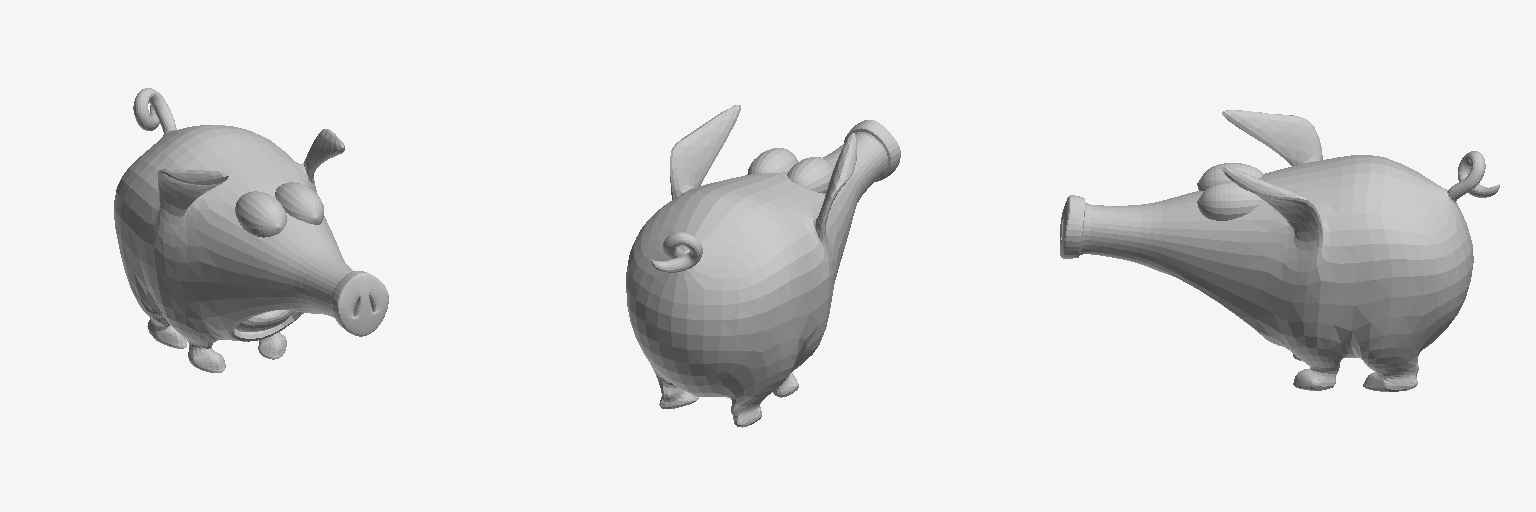
The model's file is pig.obj.
3 views of the same model, side by side, from view 1: azimuth 30°, elevation 25°; view 2: azimuth 150°, elevation 25°; view 3: azimuth 270°, elevation 25° (orthographic).
Visible parts, largest first — view 1: pig_triangulated_moved; view 2: pig_triangulated_moved; view 3: pig_triangulated_moved.
Part boxes in pixels (x1,y1,x2,y2): pig_triangulated_moved: (114, 88, 388, 372); pig_triangulated_moved: (626, 105, 900, 427); pig_triangulated_moved: (1060, 110, 1499, 391).
Size of the model in its own units: 0.683 by 0.9181 by 1.57.